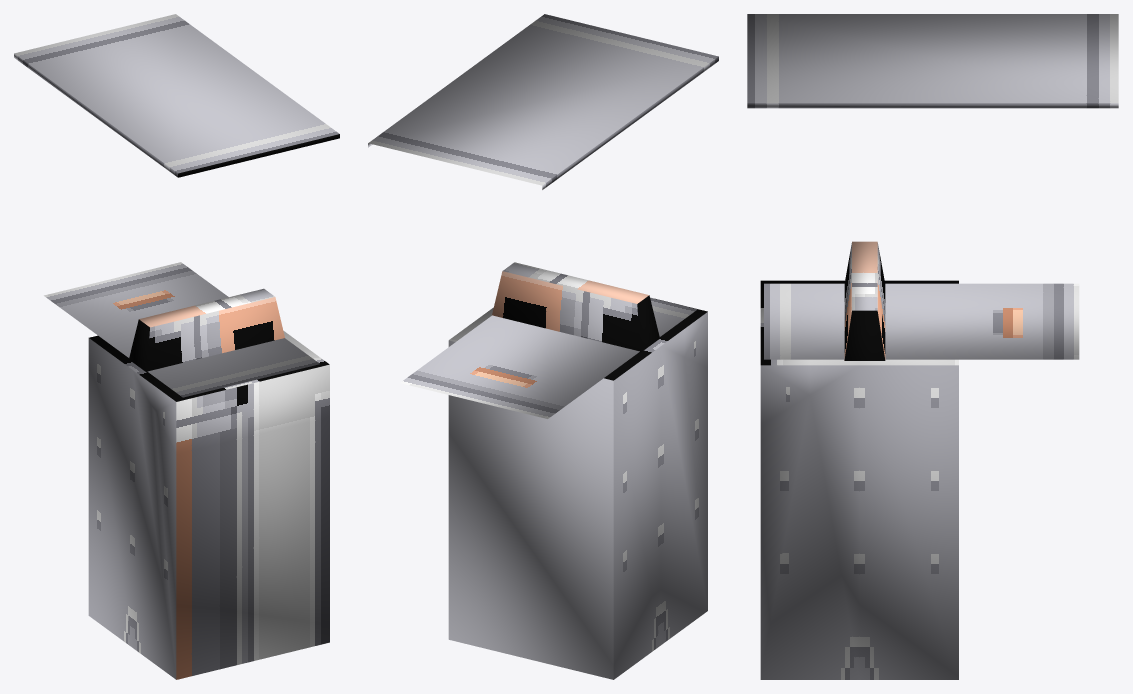
3 renders of one model, left to right at view 1: azimuth 30°, elevation 25°; view 2: azimuth 150°, elevation 25°; view 3: azimuth 270°, elevation 25°, orthographic. The views are drawn at different scales.
Visible parts, largest first — view 1: 3780kg_sh1_03; view 2: 3780kg_sh1_03; view 3: 3780kg_sh1_03.
Part boxes in pixels (box(x1,y1,x2,y2)): 3780kg_sh1_03: box(14, 14, 339, 679); 3780kg_sh1_03: box(368, 14, 718, 679); 3780kg_sh1_03: box(747, 14, 1118, 679).
Size of the model in its own units: 0.5177 by 1.56 by 0.9091.
3 materials, 3 textured.
